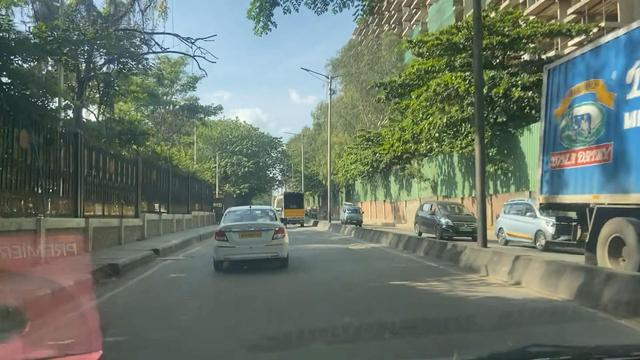HMV: (507, 21, 640, 265), (279, 185, 315, 233)
RoadDamages: (156, 248, 199, 270)
